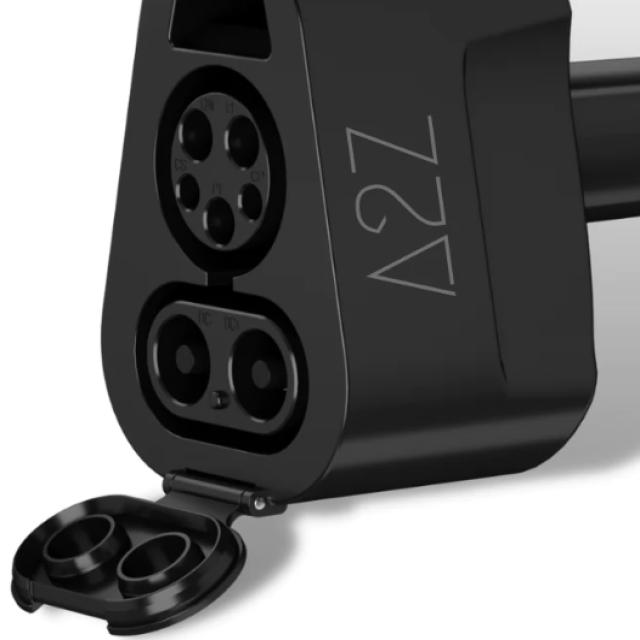CCS1: (38, 55, 429, 618)
